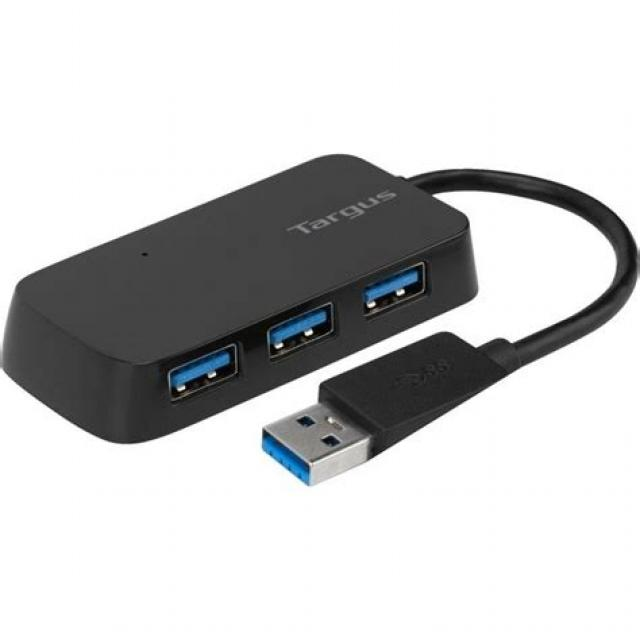usb port: (162, 347, 244, 390), (262, 306, 342, 348), (359, 268, 428, 306)
